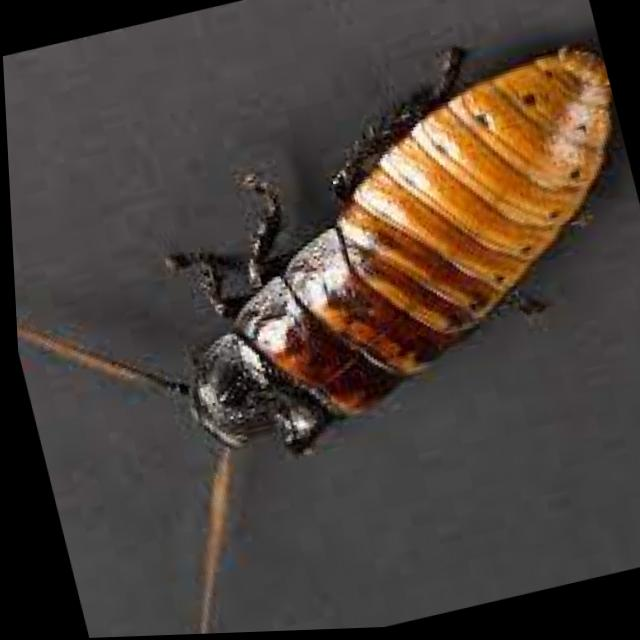Cockroach: (1, 1, 640, 640)
